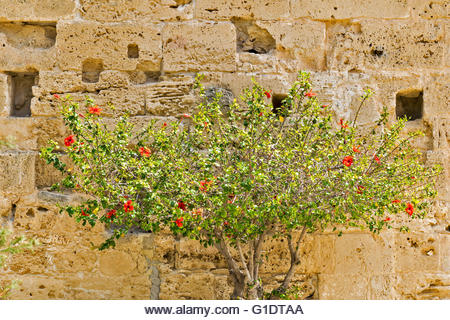Hibiscus: (337, 145, 369, 184), (54, 126, 83, 159), (81, 96, 112, 126), (402, 201, 427, 230), (120, 193, 146, 218), (130, 143, 161, 162)
